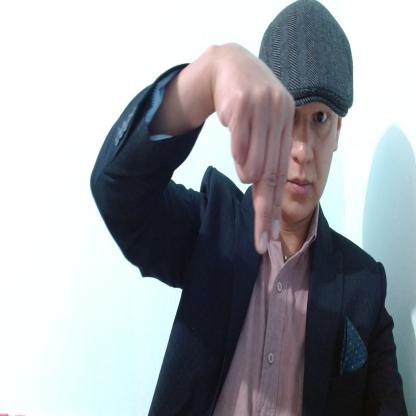N: (212, 42, 294, 256)
